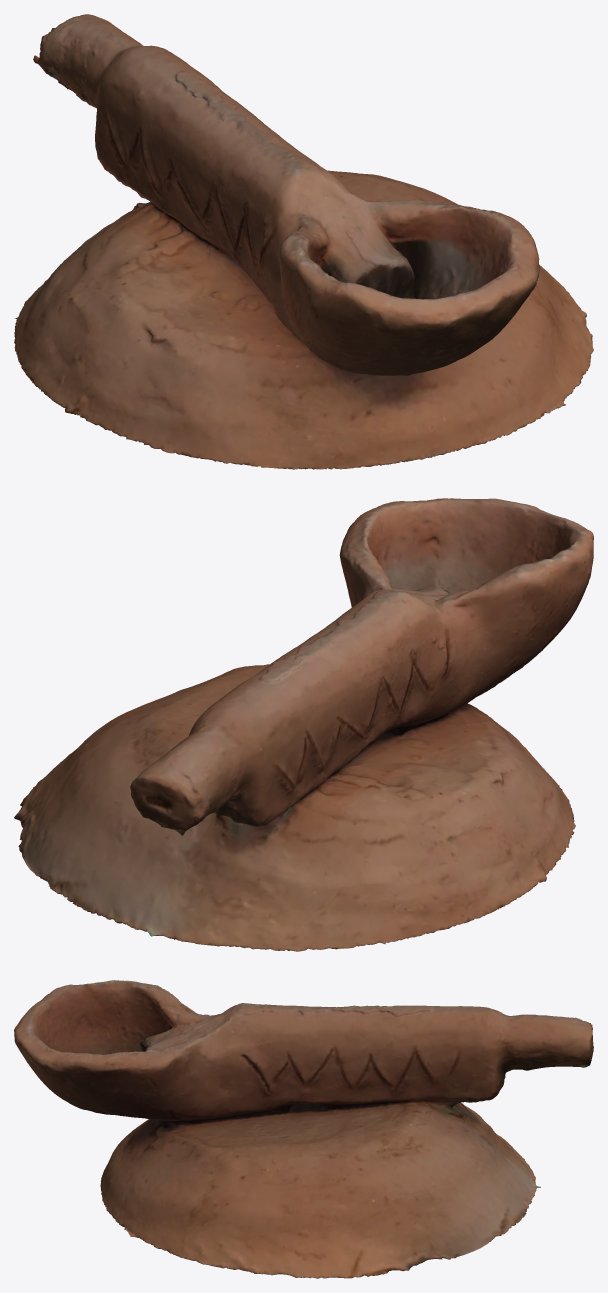
Rendered from wixarika-artifact.glb.
3 views of the same model, one above another, from view 1: azimuth 30°, elevation 25°; view 2: azimuth 150°, elevation 25°; view 3: azimuth 270°, elevation 25° (orthographic). The views are drawn at different scales.
Visible parts, largest first — view 1: Mesh_0_Part_0; view 2: Mesh_0_Part_0; view 3: Mesh_0_Part_0.
Boxes of the visible parts, <box> form: Mesh_0_Part_0: <box>14,14,593,469</box>; Mesh_0_Part_0: <box>14,498,593,951</box>; Mesh_0_Part_0: <box>14,980,593,1278</box>.
Bounding box in the file's own units: 0.2876 × 0.1243 × 0.3935.
1 material, 1 textured.
